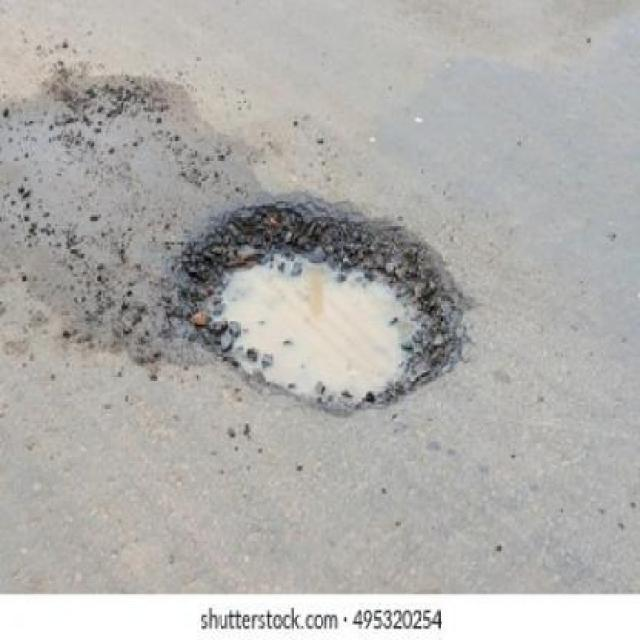Buraco: (166, 197, 467, 422)
